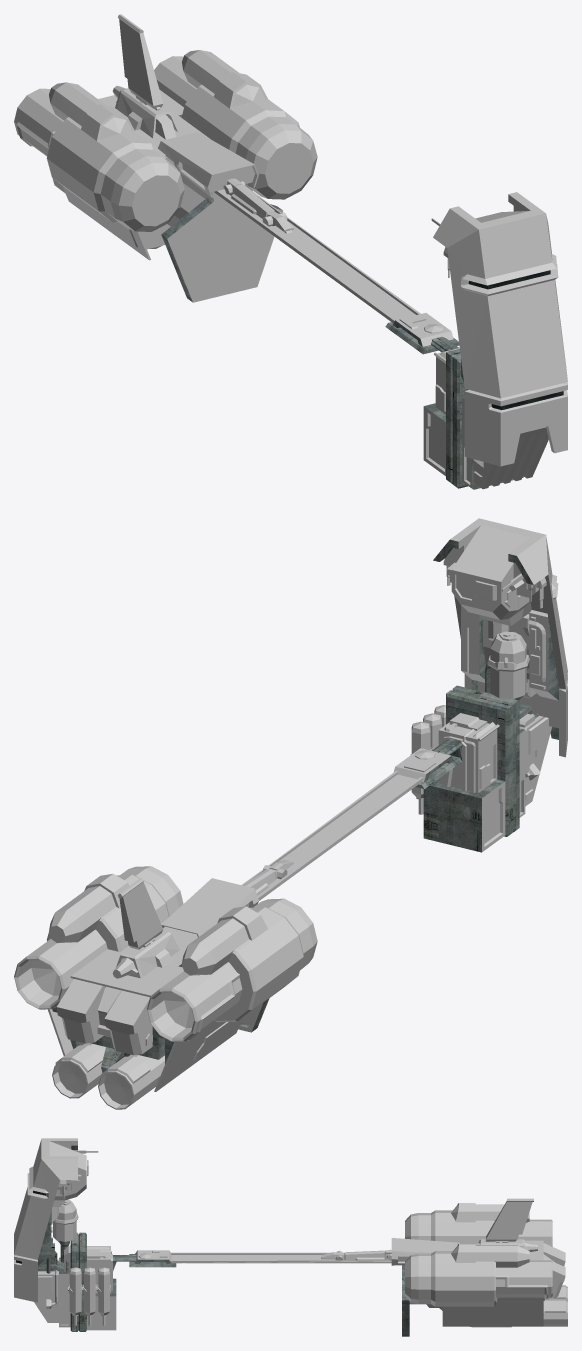
The model's file is cargo_freighter_l1.fbx.
3 views of the same model, one above another, from view 1: azimuth 30°, elevation 25°; view 2: azimuth 150°, elevation 25°; view 3: azimuth 270°, elevation 25° (orthographic). The views are drawn at different scales.
Parts seen in each view (by area): view 1: mesh_node; view 2: mesh_node; view 3: mesh_node.
Boxes of the visible parts, <box> form: mesh_node: <box>14,14,567,489</box>; mesh_node: <box>14,518,567,1109</box>; mesh_node: <box>14,1138,567,1336</box>.
Size of the model in its own units: 28.13 by 36.3 by 102.
